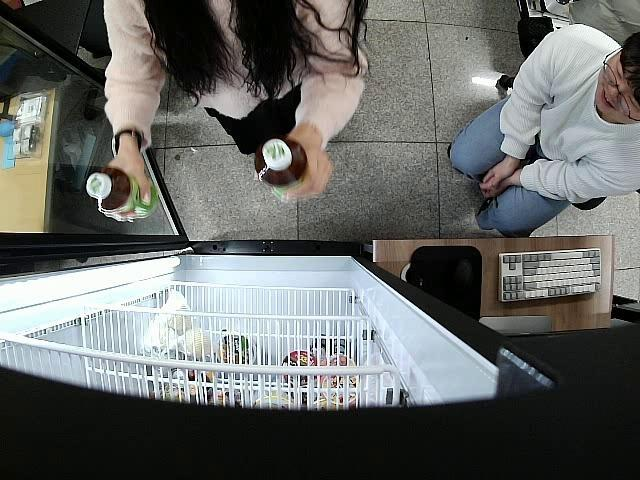19_17cha: (85, 166, 159, 221), (252, 139, 312, 205)
